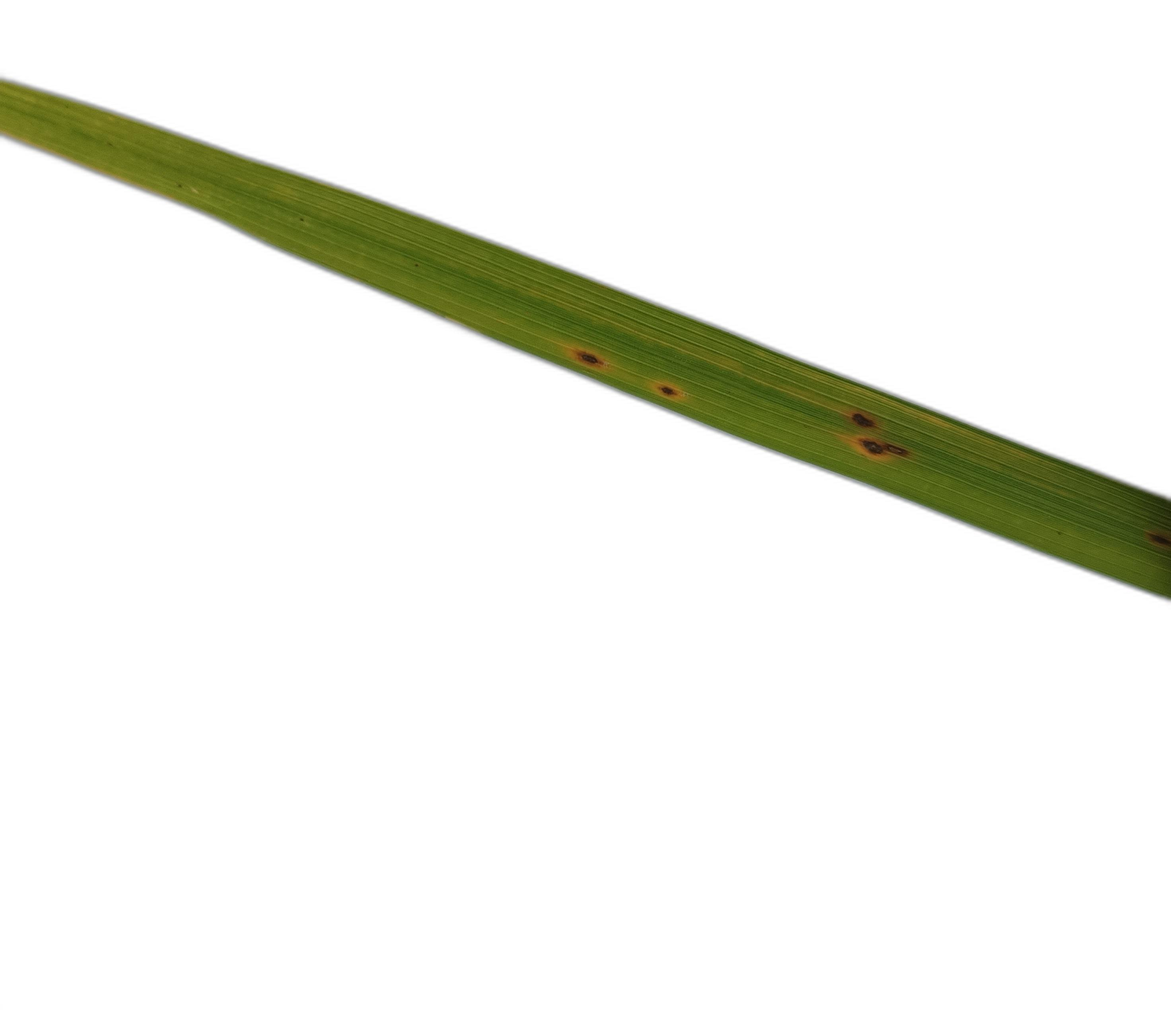LEAF: (0, 82, 1171, 598)
LEAF BLAST: (838, 434, 891, 461), (567, 348, 606, 370), (845, 409, 882, 431), (653, 380, 683, 400), (885, 441, 910, 458)
